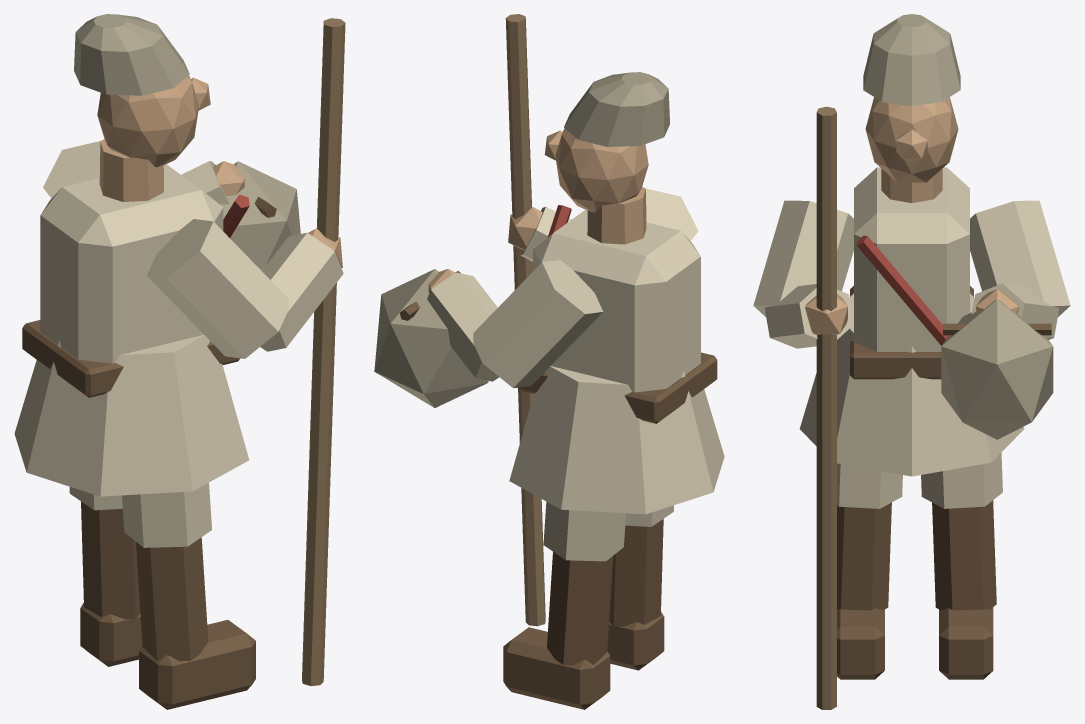
Rendered from civilian_adult.glb.
3 views of the same model, side by side, from view 1: azimuth 30°, elevation 25°; view 2: azimuth 150°, elevation 25°; view 3: azimuth 270°, elevation 25° (orthographic). The views are drawn at different scales.
Visible parts, largest first — view 1: civilian_adult_linen, civilian_adult_leather, civilian_adult_oak, civilian_adult_padded_linen, civilian_adult_skin, civilian_adult_team_cloth; view 2: civilian_adult_linen, civilian_adult_leather, civilian_adult_padded_linen, civilian_adult_skin, civilian_adult_oak; view 3: civilian_adult_linen, civilian_adult_leather, civilian_adult_padded_linen, civilian_adult_oak, civilian_adult_skin, civilian_adult_team_cloth.
Part boxes in pixels (x1=…): civilian_adult_linen: x1=14, y1=141, x2=343, y2=547; civilian_adult_leather: x1=22, y1=164, x2=276, y2=709; civilian_adult_oak: x1=302, y1=18, x2=345, y2=685; civilian_adult_padded_linen: x1=74, y1=14, x2=300, y2=270; civilian_adult_skin: x1=97, y1=75, x2=342, y2=267; civilian_adult_team_cloth: x1=223, y1=194, x2=249, y2=237; civilian_adult_linen: x1=427, y1=188, x2=724, y2=561; civilian_adult_leather: x1=399, y1=271, x2=717, y2=709; civilian_adult_padded_linen: x1=374, y1=72, x2=669, y2=407; civilian_adult_skin: x1=428, y1=128, x2=648, y2=292; civilian_adult_oak: x1=505, y1=14, x2=545, y2=626; civilian_adult_linen: x1=753, y1=167, x2=1070, y2=508; civilian_adult_leather: x1=837, y1=286, x2=1051, y2=679; civilian_adult_padded_linen: x1=863, y1=14, x2=1053, y2=439; civilian_adult_oak: x1=816, y1=106, x2=836, y2=709; civilian_adult_skin: x1=805, y1=97, x2=1018, y2=335; civilian_adult_team_cloth: x1=856, y1=235, x2=948, y2=345.
Size of the model in its own units: 0.871 by 1.75 by 0.8186.
